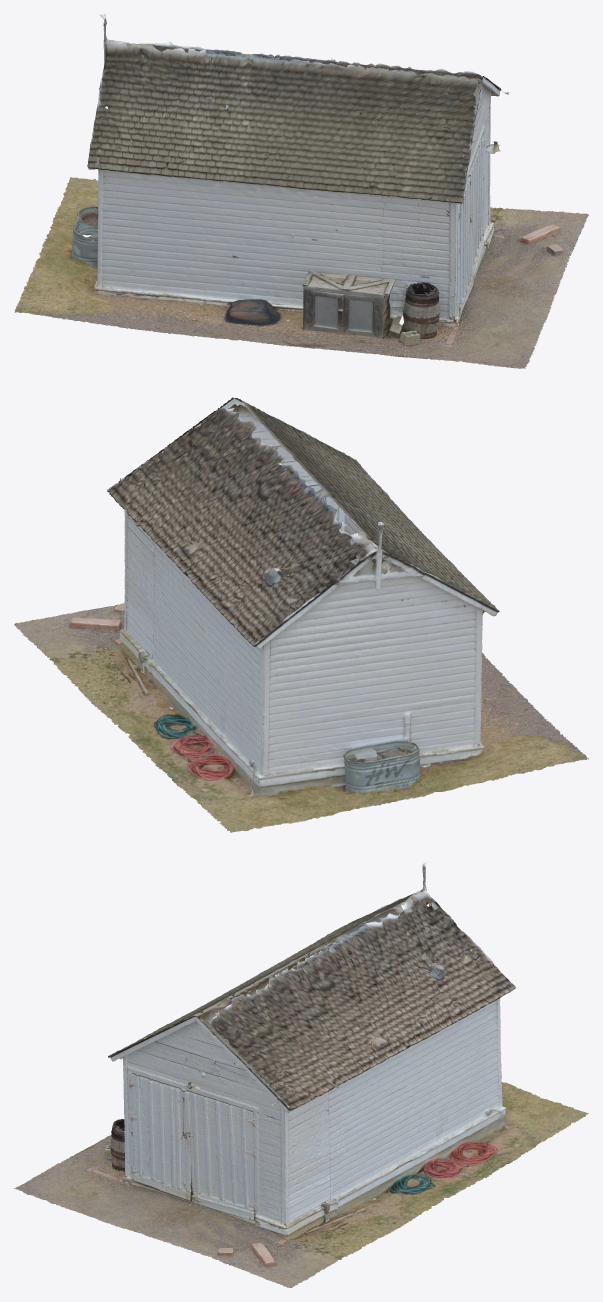
The model's file is ag_heritage_center_garagetool_shed.glb.
3 views of the same model, one above another, from view 1: azimuth 30°, elevation 25°; view 2: azimuth 150°, elevation 25°; view 3: azimuth 270°, elevation 25° (orthographic). The views are drawn at different scales.
Visible parts, largest first — view 1: Stereo textured mesh; view 2: Stereo textured mesh; view 3: Stereo textured mesh.
Boxes of the visible parts, x1,y1,x2,y2 form: Stereo textured mesh: (14,14,588,368); Stereo textured mesh: (14,397,588,832); Stereo textured mesh: (14,861,588,1287).
Bounding box in the file's own units: 9.85 × 4.23 × 9.35.
Materials: 4 (4 with a texture image).
